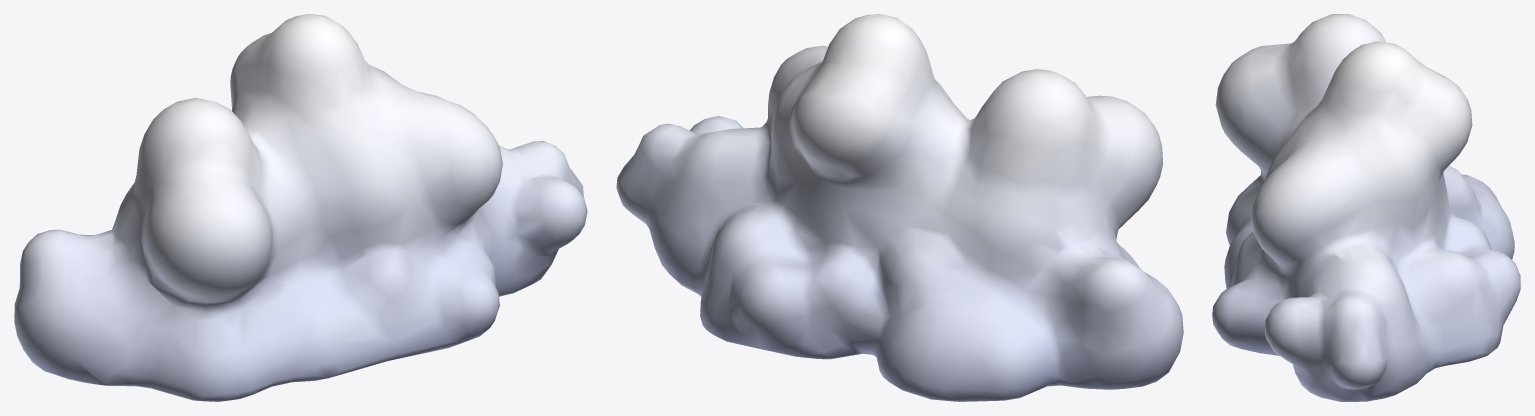
Rendered from NubeCumulo1.fbx.
3 renders of one model, left to right at view 1: azimuth 30°, elevation 25°; view 2: azimuth 150°, elevation 25°; view 3: azimuth 270°, elevation 25°, orthographic. The views are drawn at different scales.
Visible parts, largest first — view 1: NubeCumulo1; view 2: NubeCumulo1; view 3: NubeCumulo1.
Part boxes in pixels (bbox=[...]): NubeCumulo1: bbox=[14, 14, 587, 401]; NubeCumulo1: bbox=[616, 14, 1183, 401]; NubeCumulo1: bbox=[1212, 14, 1520, 401].
Size of the model in its own units: 260 by 134 by 137.
1 material, 1 textured.
